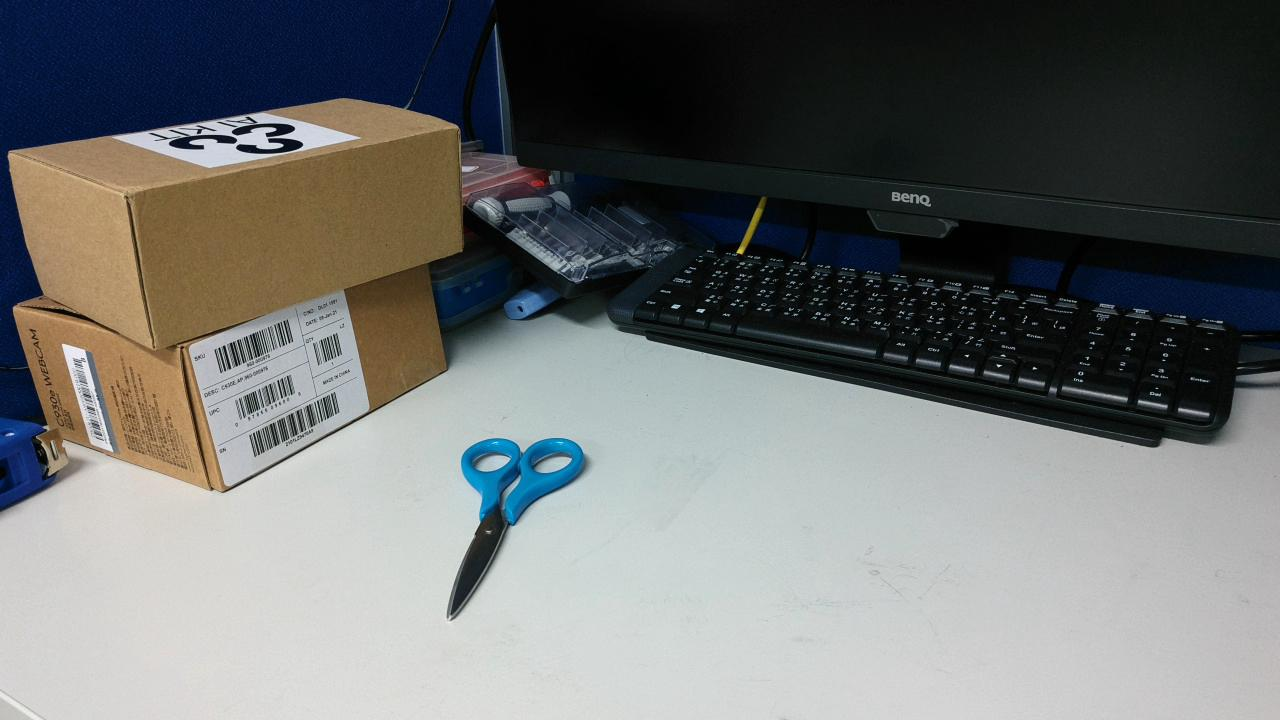columnar: (764, 331, 922, 668)
